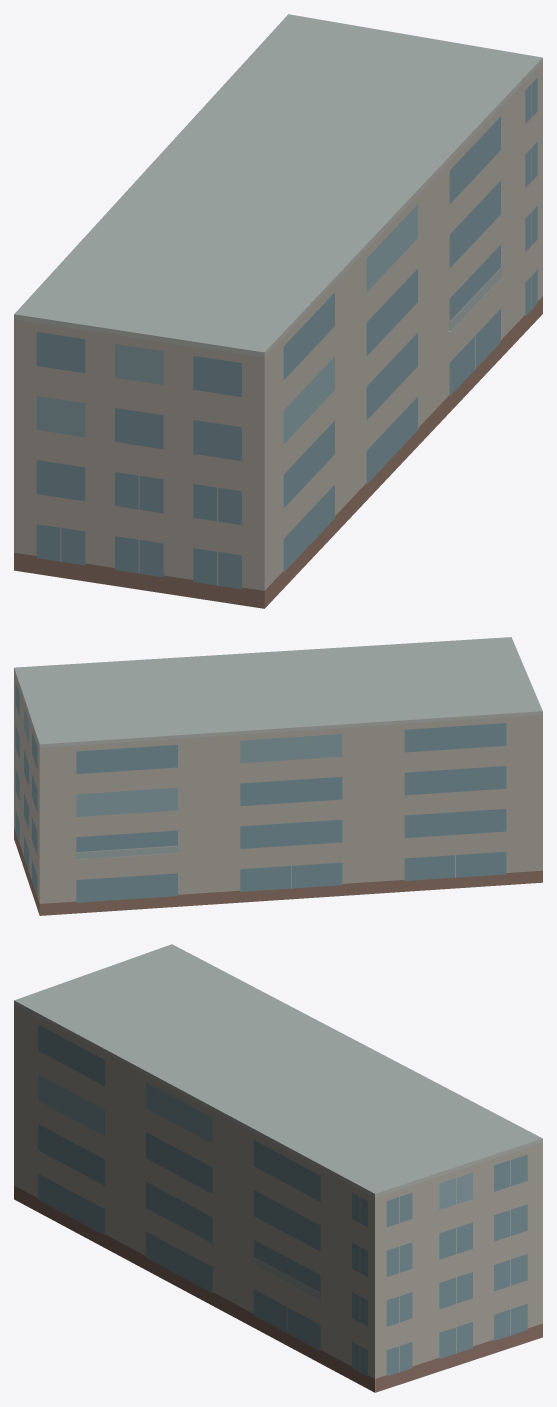
The model's file is survey-upis-32774246.glb.
The picture shows the model from 3 angles, top to bottom: view 1: azimuth 30°, elevation 25°; view 2: azimuth 150°, elevation 25°; view 3: azimuth 270°, elevation 25°; orthographic projection. The views are drawn at different scales.
Parts seen in each view (by area): view 1: survey-upis-32774246.tmp; view 2: survey-upis-32774246.tmp; view 3: survey-upis-32774246.tmp.
Part boxes in pixels (left/top/right/bottom): survey-upis-32774246.tmp: left=14, top=14, right=542, bottom=608; survey-upis-32774246.tmp: left=14, top=637, right=542, bottom=915; survey-upis-32774246.tmp: left=14, top=944, right=542, bottom=1392.
Size of the model in its own units: 32.86 by 12.2 by 29.4.
